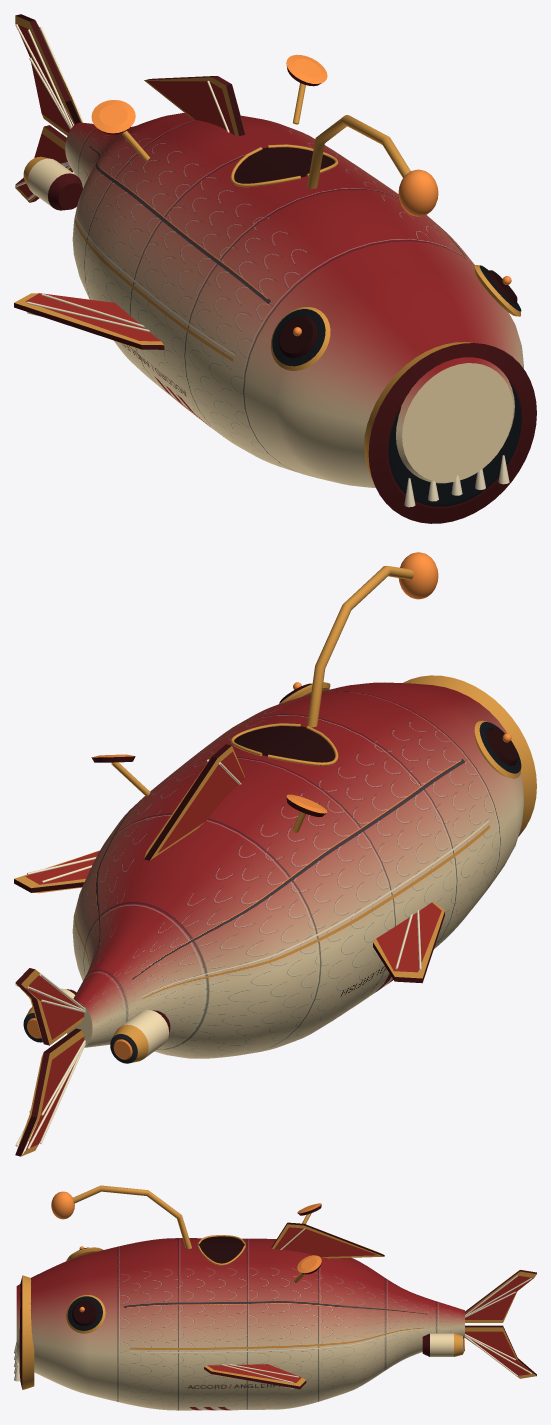
3 renders of one model, top to bottom at view 1: azimuth 30°, elevation 25°; view 2: azimuth 150°, elevation 25°; view 3: azimuth 270°, elevation 25°, orthographic. The views are drawn at different scales.
Visible parts, largest first — view 1: anglerfish_hull; view 2: anglerfish_hull; view 3: anglerfish_hull.
Part boxes in pixels (x1=…): anglerfish_hull: x1=14, y1=14, x2=536, y2=523; anglerfish_hull: x1=14, y1=552, x2=536, y2=1156; anglerfish_hull: x1=14, y1=1185, x2=536, y2=1410.
Bounding box in the file's own units: 9.08 × 7.72 × 17.
Materials: 1 (1 with a texture image).
